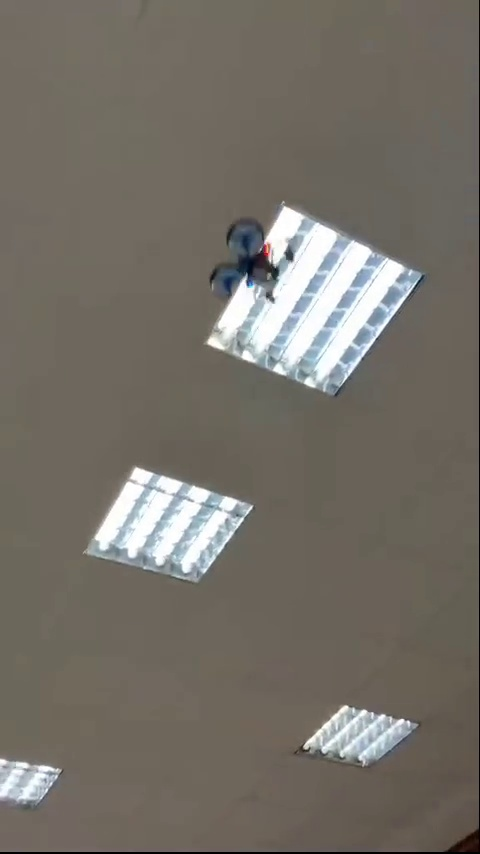drone: (213, 229, 290, 299)
